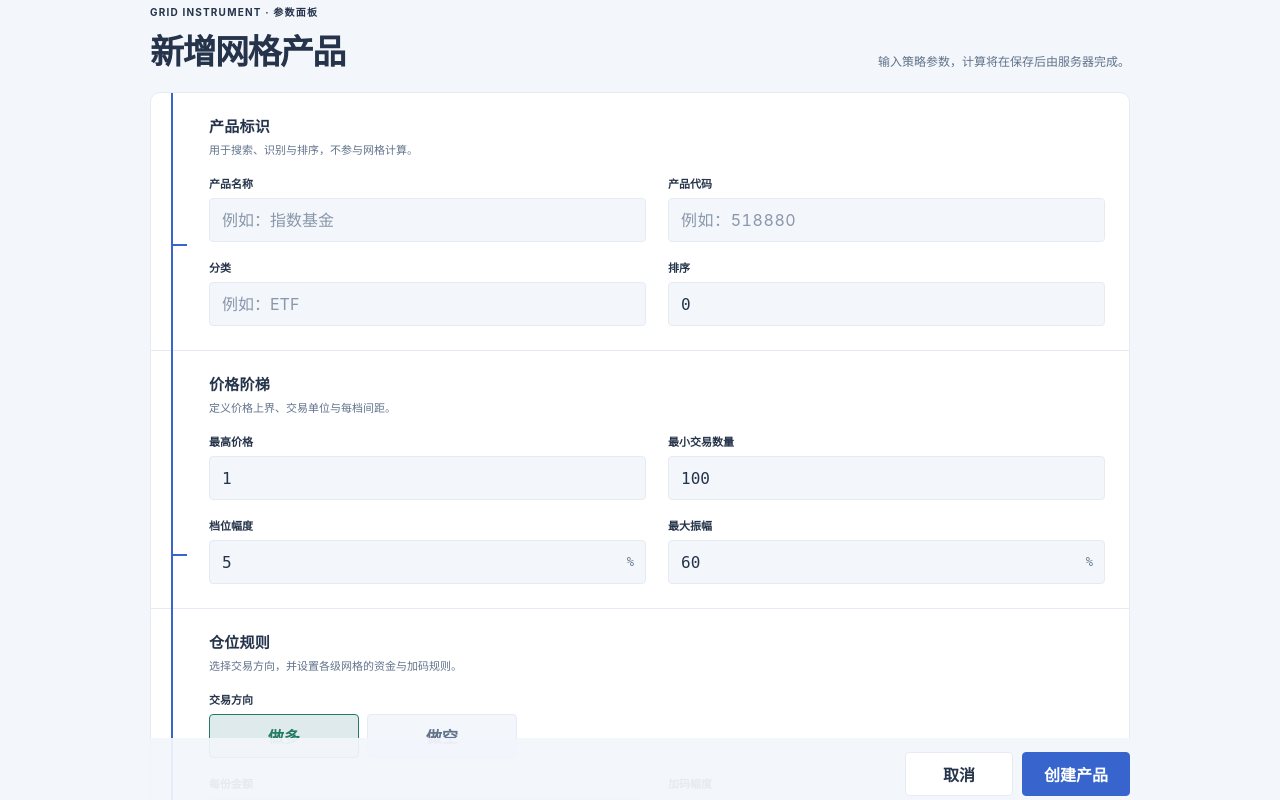
Test case: grid form page controllers › maps create field errors and the public request id to accessible form feedback
The width and height of the screenshot is (1280, 800).
Type "518880" into the field labelled "产品代码". click: [886, 220]
box: [668,198,1105,242]
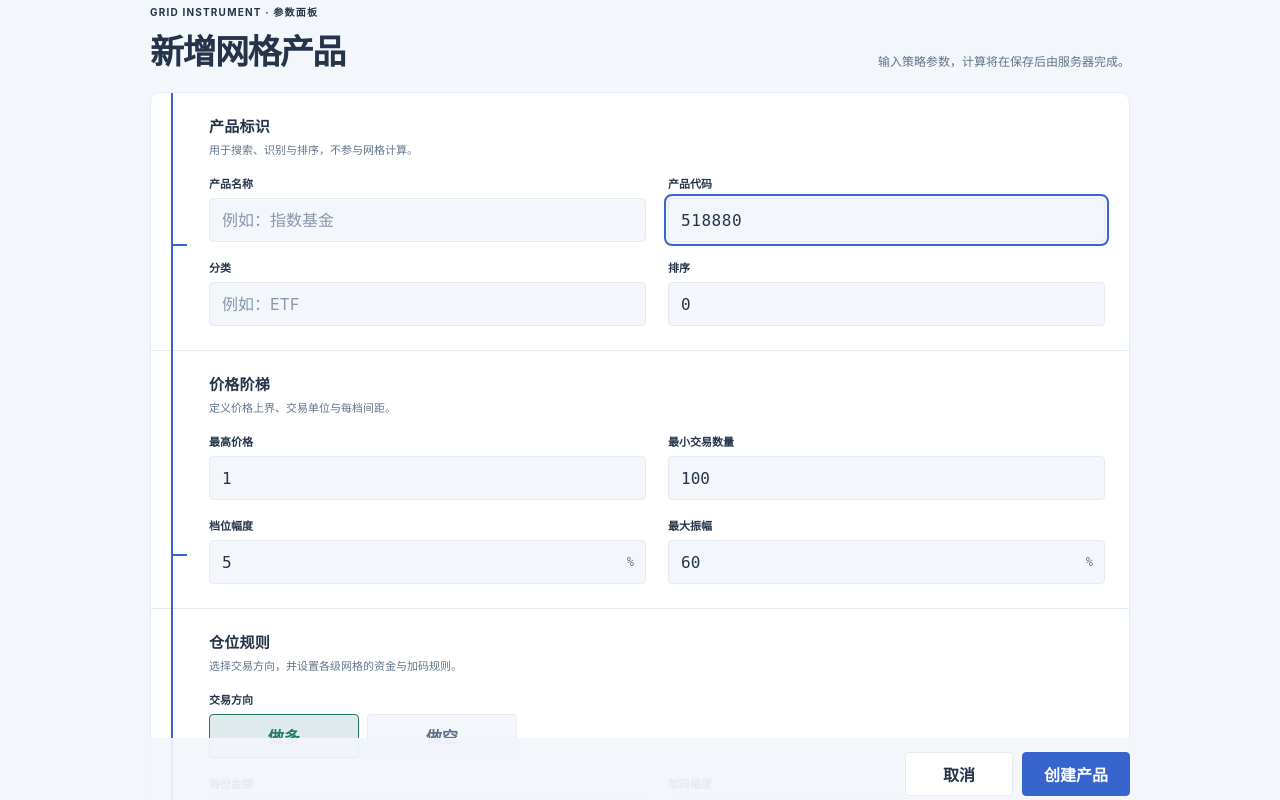
Click the button "创建产品". click: [1076, 774]
box: [1022,752,1130,796]
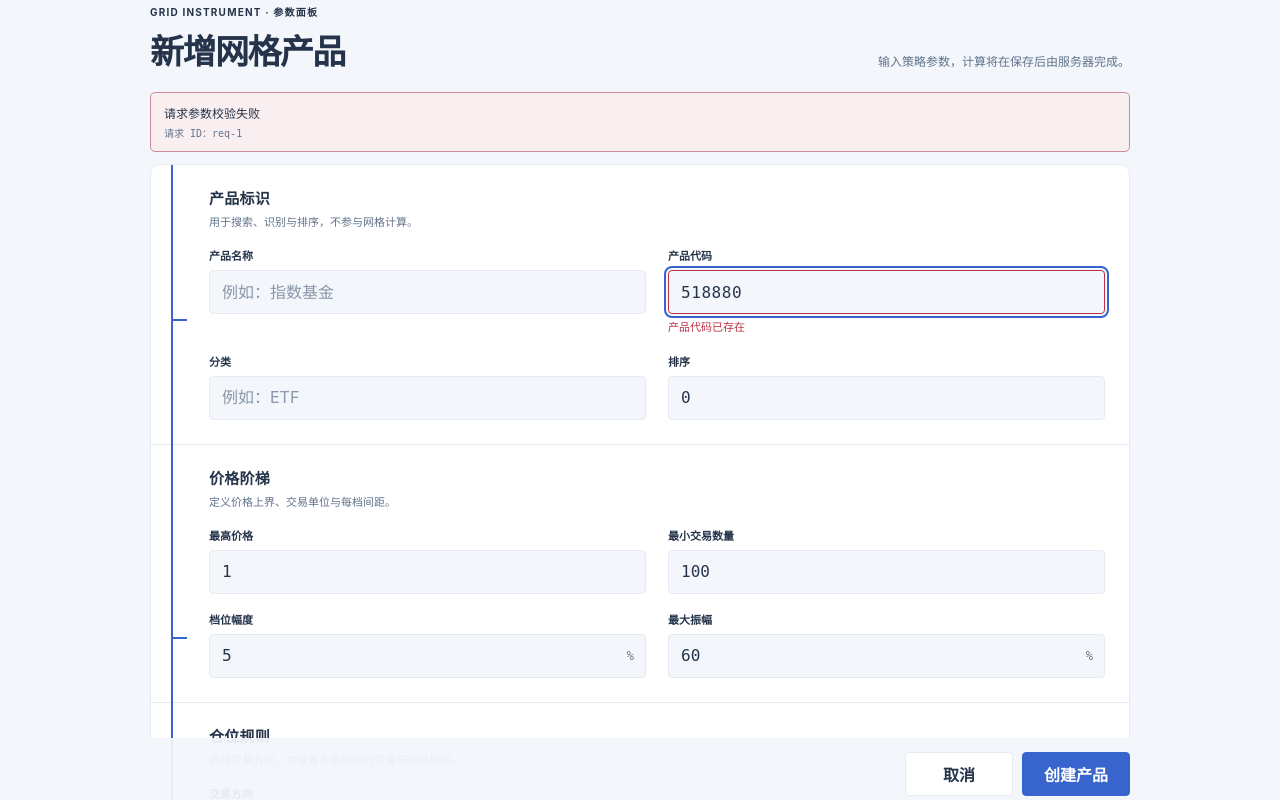
Now the message named "表单错误" shows "请求参数校验失败", box [164,106,260,121]
Now the message named "表单错误" shows "请求 ID：req-1", box [150,92,1130,152]
